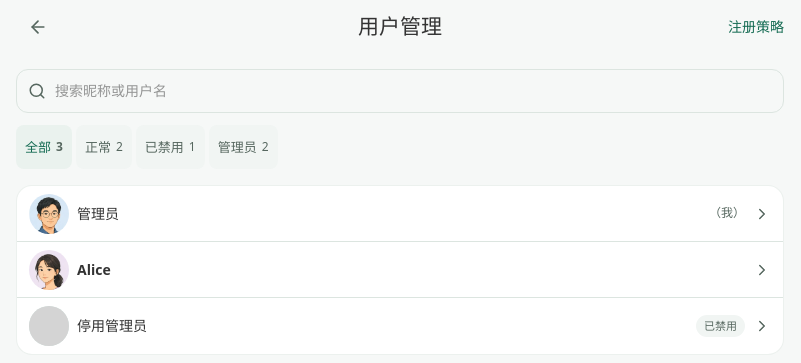
系统管理页面 › 筛选计数基于搜索结果，管理员与已禁用可以交叉且不受选中分类限制
The width and height of the screenshot is (801, 363).
Expected: the button "全部 3" is shown, [16,125,72,169]
Expected: the button "管理员 2" is shown, [209,125,278,169]
Type "  ALICE  " into the search field at (400, 91), box [16,69,784,113]
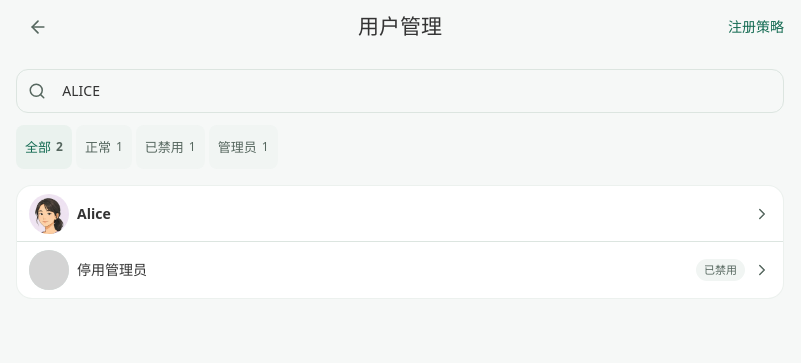
Expected: the button "全部 2" is shown, [16,125,72,169]
Click the button "管理员 1" at (243, 147), box [209,125,278,169]
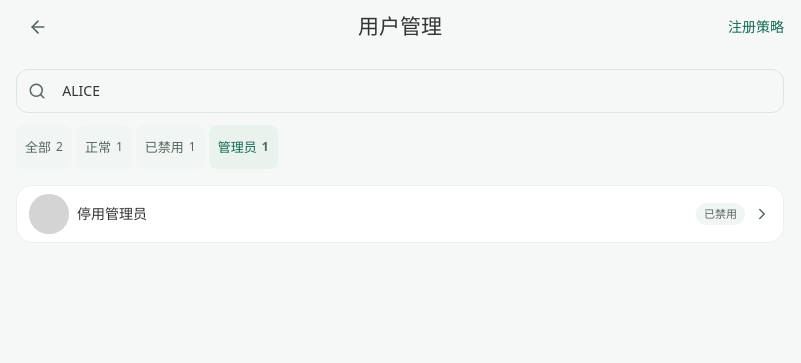
Expected: the button "已禁用 1" is shown, [136,125,205,169]
Expected: the button "正常 1" is shown, [76,125,132,169]
Replace the text in the search field with "不存在" at (400, 91), box [16,69,784,113]
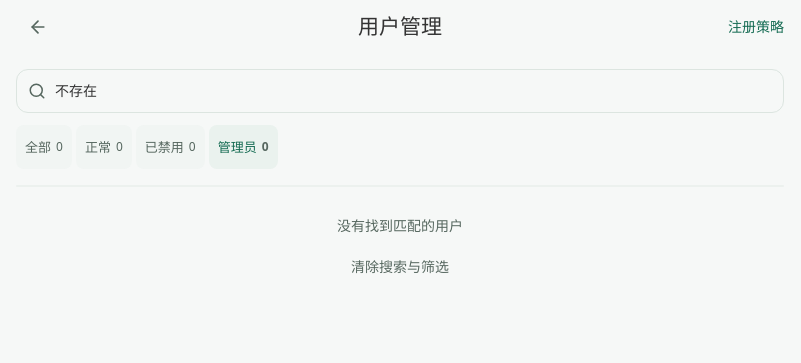
Expected: the message shows "没有找到匹配的用户", [337,216,463,235]
Click the button "清除搜索与筛选" at (400, 267), box [332,245,468,289]
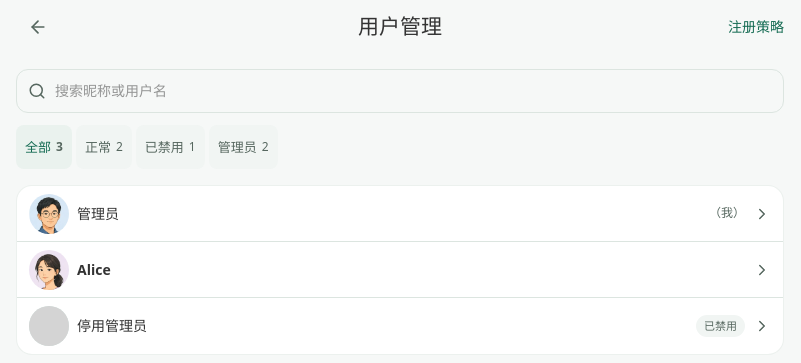
Expected: the search field is empty, [16,69,784,113]
